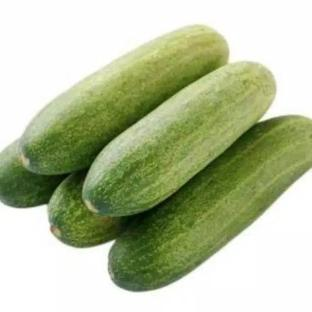Cucumber: (110, 117, 311, 290), (21, 26, 228, 174), (83, 62, 275, 215), (49, 172, 128, 247), (0, 141, 65, 207)
